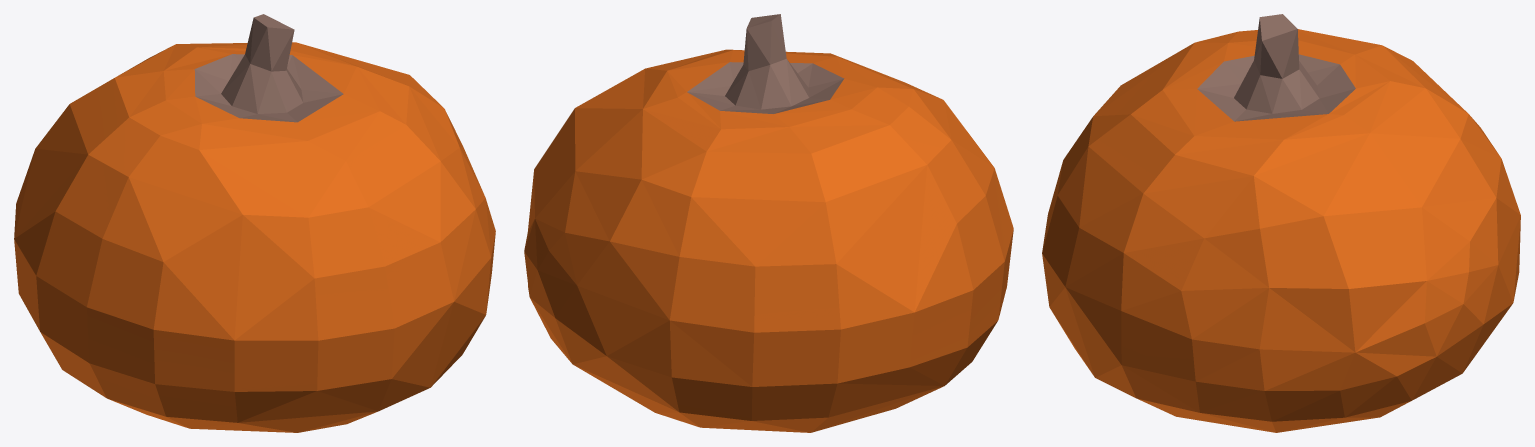
Rendered from fantasy_plant_023.fbx.
3 renders of one model, left to right at view 1: azimuth 30°, elevation 25°; view 2: azimuth 150°, elevation 25°; view 3: azimuth 270°, elevation 25°, orthographic.
Parts seen in each view (by area): view 1: fantasy_plant.023; view 2: fantasy_plant.023; view 3: fantasy_plant.023.
Part boxes in pixels (box(x1,y1,x2,y2)): fantasy_plant.023: box(14, 14, 495, 432); fantasy_plant.023: box(524, 14, 1013, 432); fantasy_plant.023: box(1042, 14, 1520, 432).
Bounding box in the file's own units: 88.99 × 73.64 × 87.24.
Materials: 1 (1 with a texture image).
